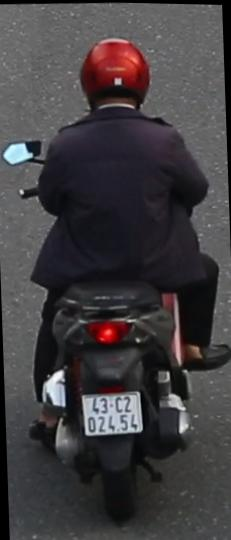LP: (76, 384, 148, 441)
helmet: (73, 30, 156, 128)
